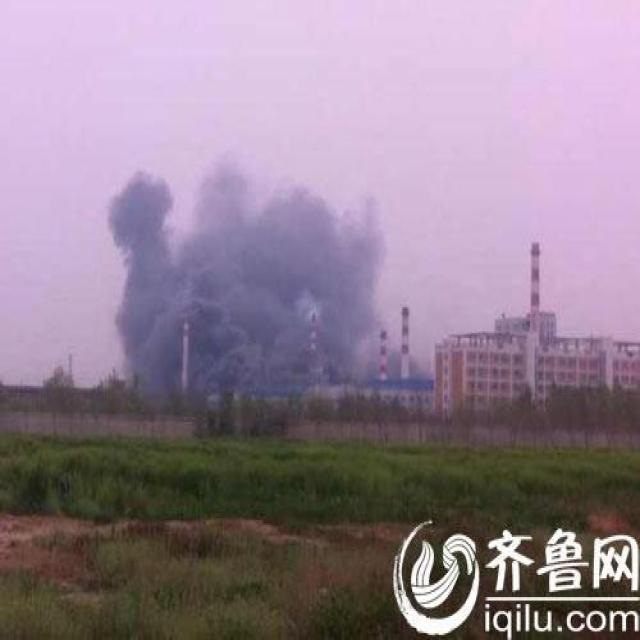smoke: (185, 177, 379, 350), (106, 168, 179, 299)
